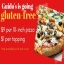pizza: (37, 5, 64, 58)
